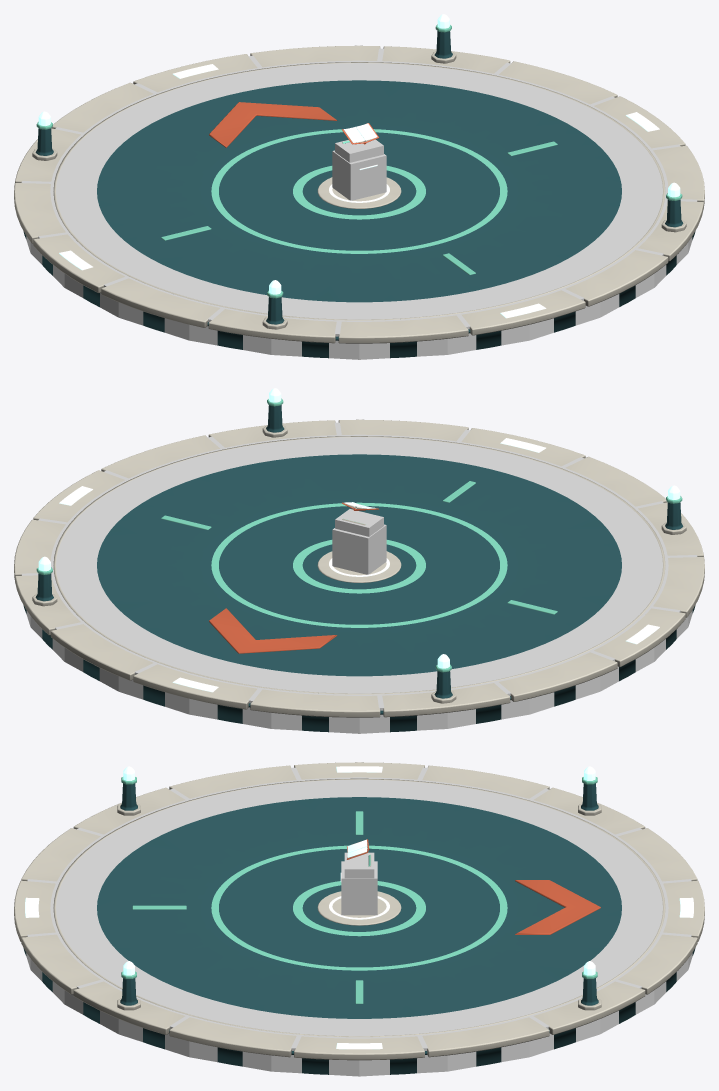
Rendered from landmarks-shared.glb.
3 renders of one model, top to bottom at view 1: azimuth 30°, elevation 25°; view 2: azimuth 150°, elevation 25°; view 3: azimuth 270°, elevation 25°, orthographic.
Visible parts, largest first — view 1: landing_pad, COL_CYL_pad, COL_BOX_plinth, COL_BOX_console; view 2: landing_pad, COL_CYL_pad, COL_BOX_plinth, COL_BOX_console; view 3: landing_pad, COL_CYL_pad, COL_BOX_plinth, COL_BOX_console.
Part boxes in pixels (x1,y1,x2,y2): landing_pad: (14,14,704,358); COL_CYL_pad: (21,48,697,359); COL_BOX_plinth: (332,150,386,200); COL_BOX_console: (335,139,383,162); landing_pad: (14,388,704,732); COL_CYL_pad: (21,422,697,733); COL_BOX_plinth: (332,524,386,574); COL_BOX_console: (335,509,383,536); landing_pad: (14,762,704,1074); COL_CYL_pad: (26,767,692,1076); COL_BOX_plinth: (341,861,377,915); COL_BOX_console: (344,852,374,878).
Bounding box in the file's own units: 14 × 1.95 × 14.
